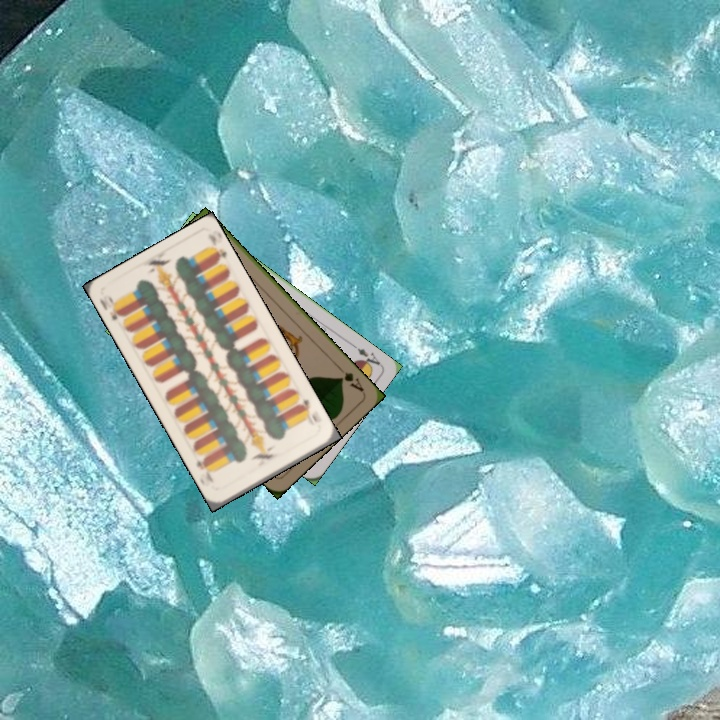E10: (95, 291, 127, 323), (294, 395, 320, 428)
EA: (348, 340, 383, 373)
GA: (334, 362, 366, 395)
